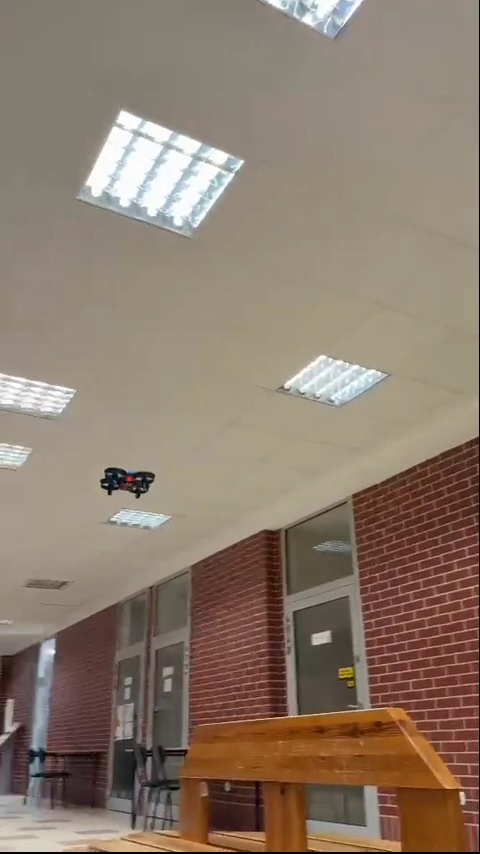drone: (99, 467, 153, 501)
